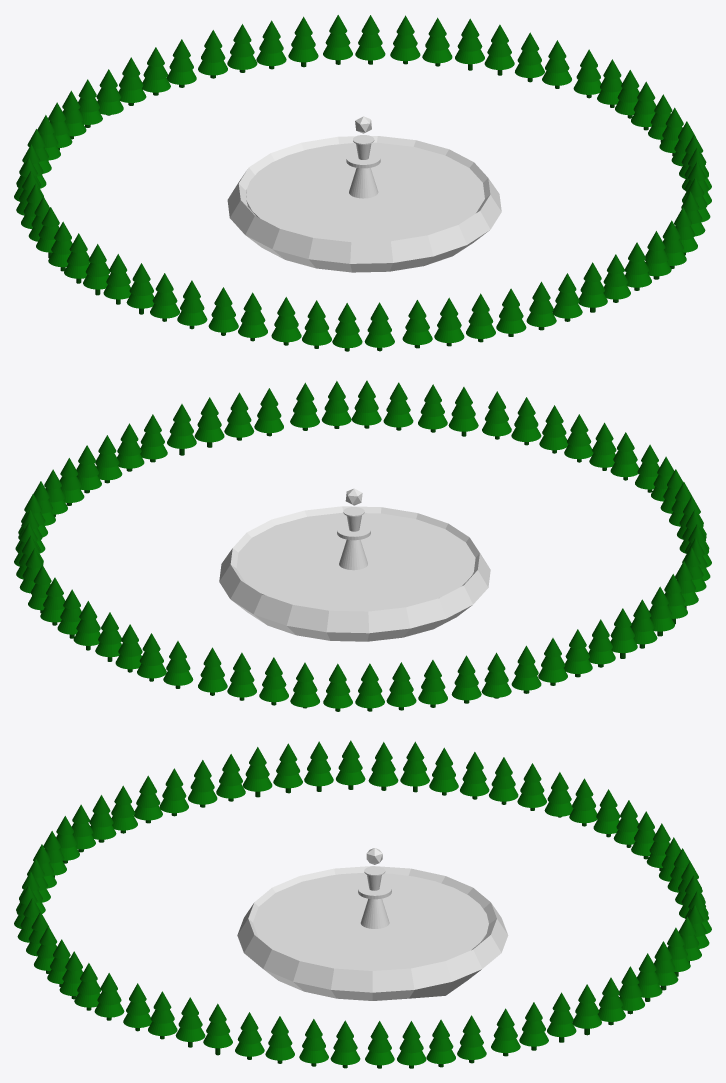
File: StageMap2.gltf
The picture shows the model from 3 angles, top to bottom: view 1: azimuth 30°, elevation 25°; view 2: azimuth 150°, elevation 25°; view 3: azimuth 270°, elevation 25°; orthographic projection.
Parts seen in each view (by area): view 1: Cylinder.006, Torus, Cylinder.001; view 2: Cylinder.006, Torus, Cylinder.001; view 3: Cylinder.006, Torus, Cylinder.001.
Part boxes in pixels (bbox=[...]): Cylinder.006: bbox=[246, 142, 484, 242]; Torus: bbox=[227, 136, 501, 272]; Cylinder.001: bbox=[349, 168, 378, 198]; Cylinder.006: bbox=[236, 512, 475, 611]; Torus: bbox=[219, 506, 490, 641]; Cylinder.001: bbox=[339, 539, 367, 570]; Cylinder.006: bbox=[253, 873, 488, 970]; Torus: bbox=[237, 866, 508, 1000]; Cylinder.001: bbox=[360, 898, 389, 928].
Size of what is drawn, in the model's own units: 40.71 by 6.87 by 41.18.
